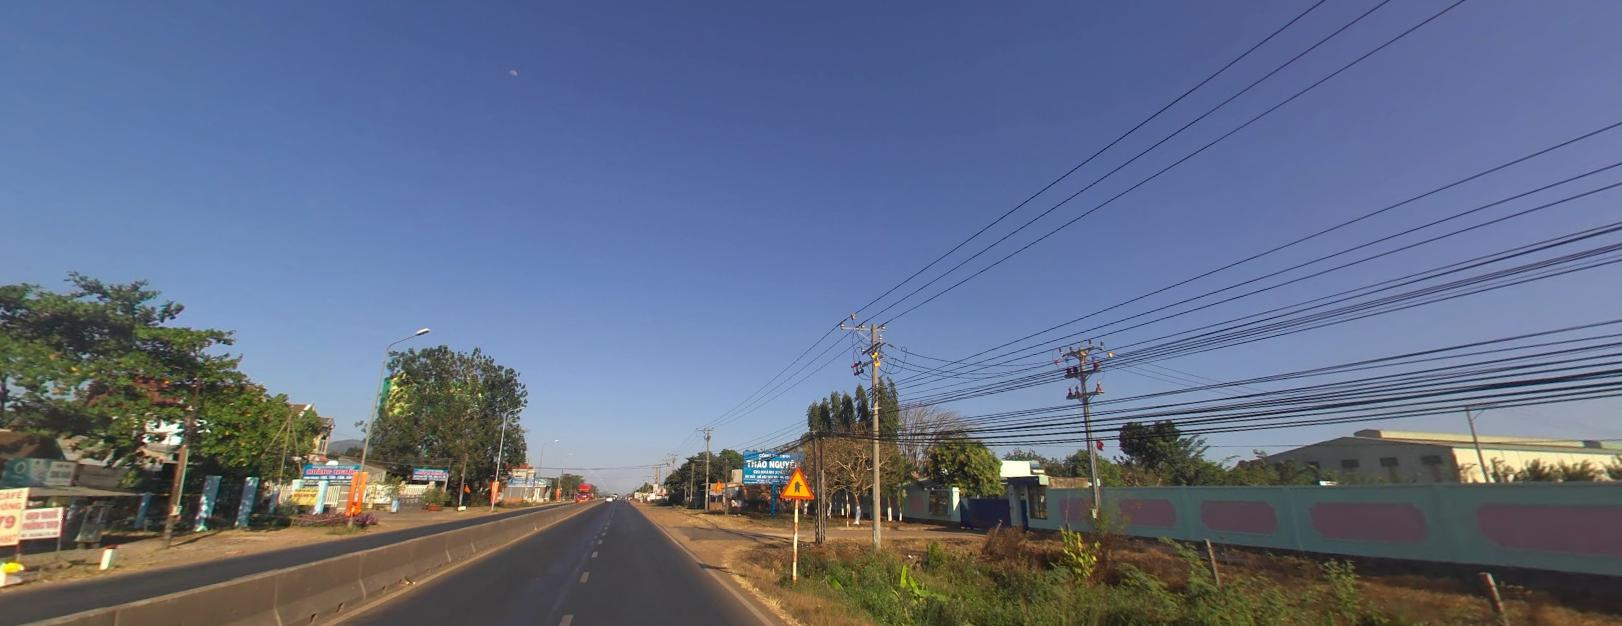Nguy hiem: (778, 463, 816, 502)
